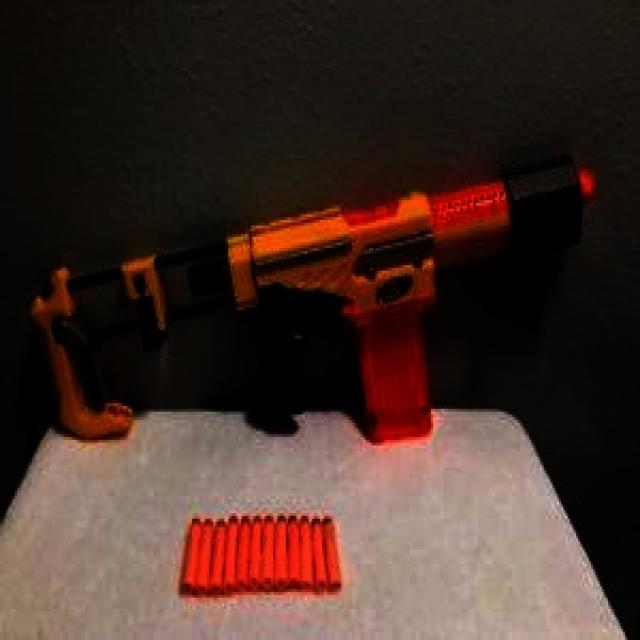Nerf gun: (26, 141, 602, 445)
